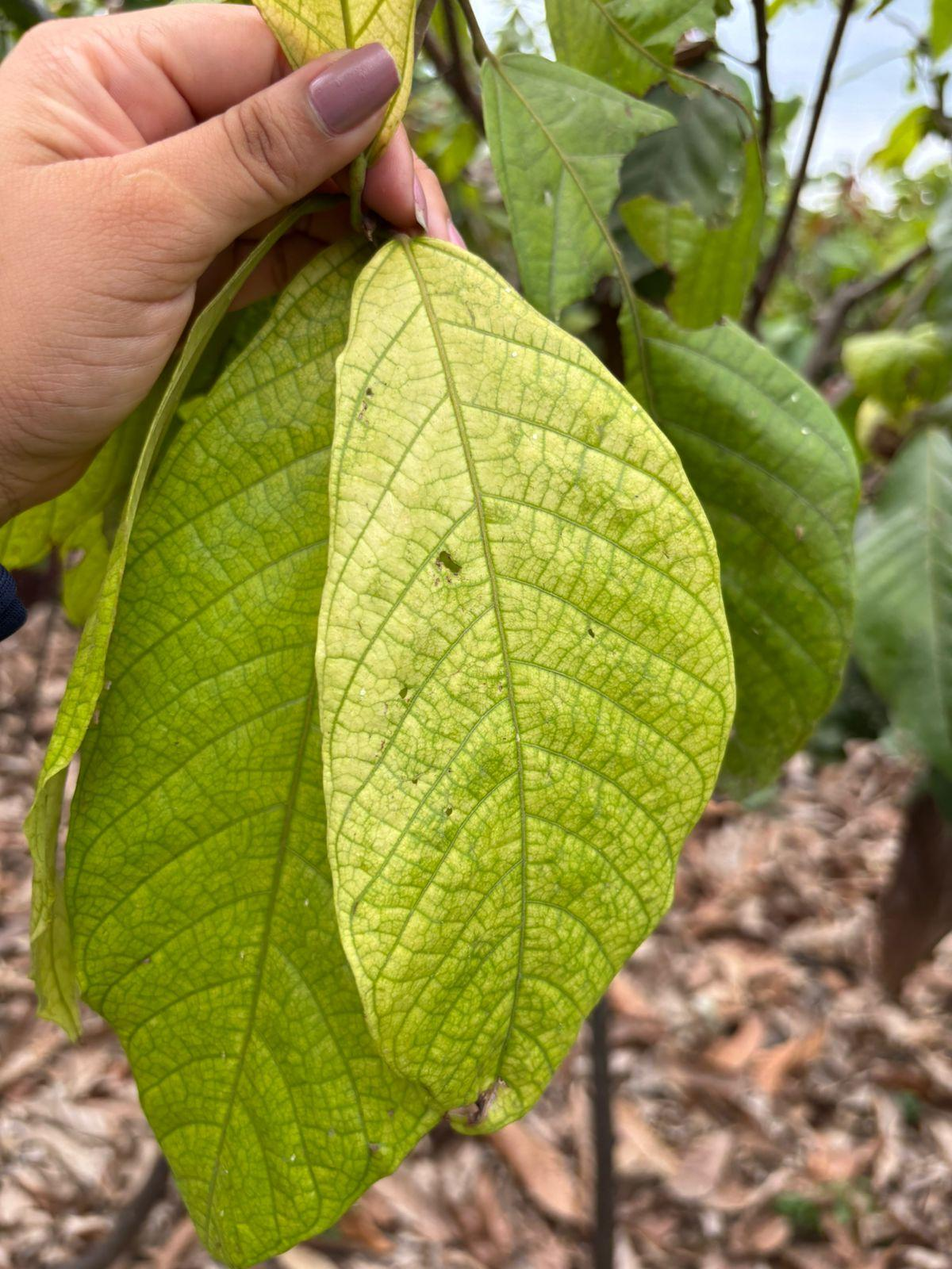deficiencia_nitrogeno: (66, 247, 438, 1264), (317, 239, 734, 1130)
